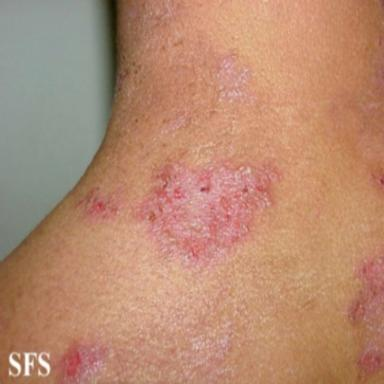Hailey-Hailey-Disease: (133, 163, 281, 268), (348, 247, 384, 378), (57, 335, 111, 382), (78, 188, 122, 219)
